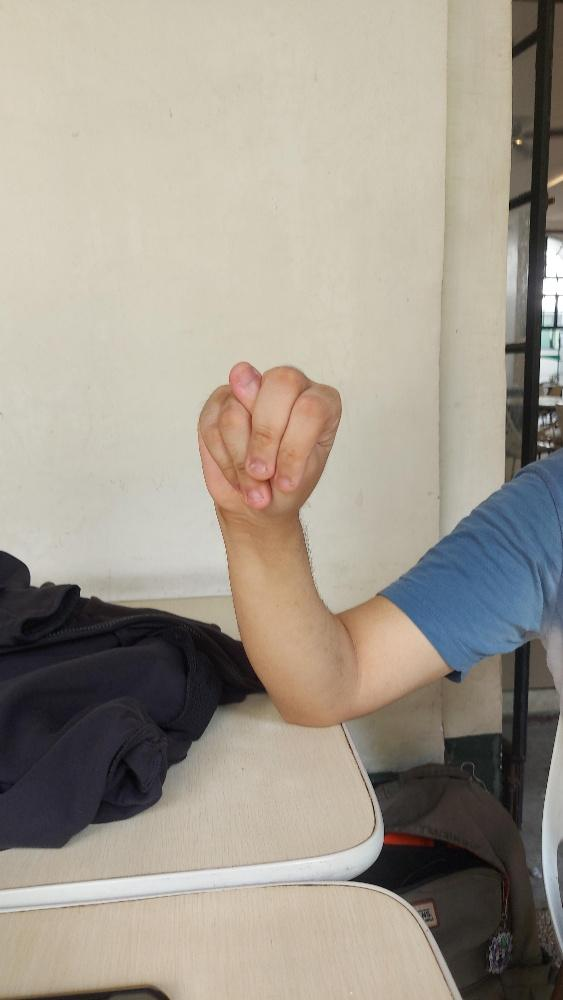n: (196, 360, 341, 521)
